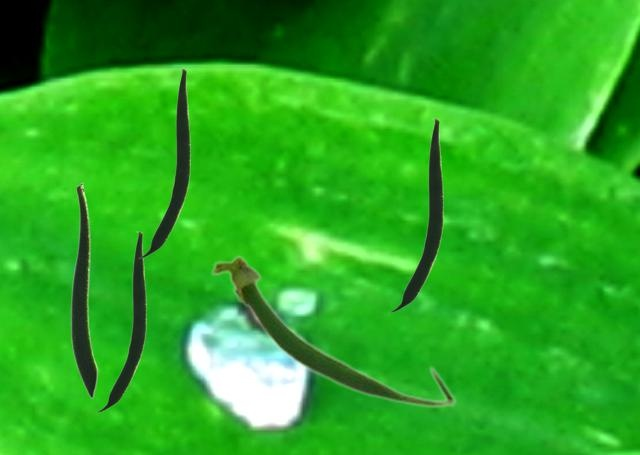french_bean: (209, 253, 456, 408), (389, 118, 442, 311), (138, 68, 189, 257), (96, 231, 145, 411), (70, 182, 97, 398)
